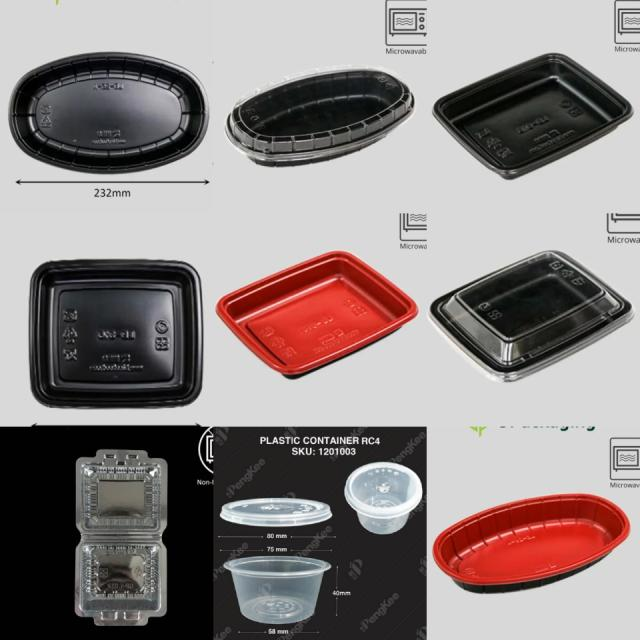Single-Use-Plastic: (430, 251, 634, 381), (30, 260, 201, 408), (216, 251, 416, 377), (432, 54, 632, 178), (10, 52, 209, 172), (432, 494, 630, 592), (225, 66, 415, 166), (75, 450, 168, 625), (224, 556, 331, 624), (345, 462, 422, 534), (220, 498, 332, 527)
